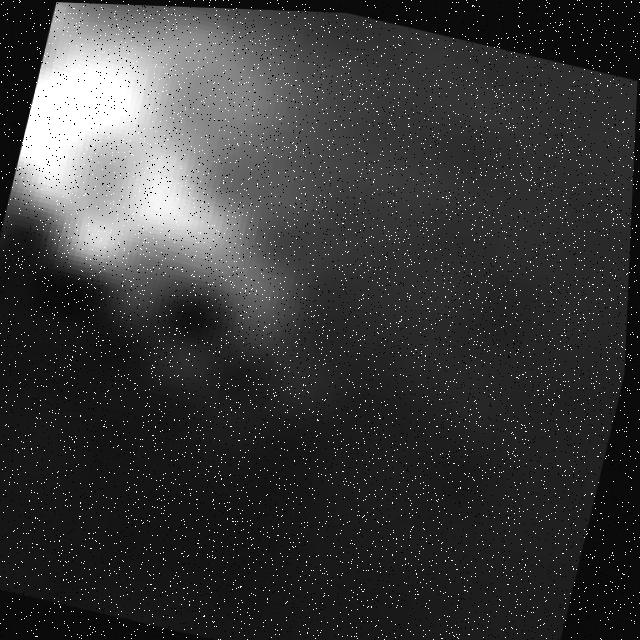person: (8, 1, 405, 285)
